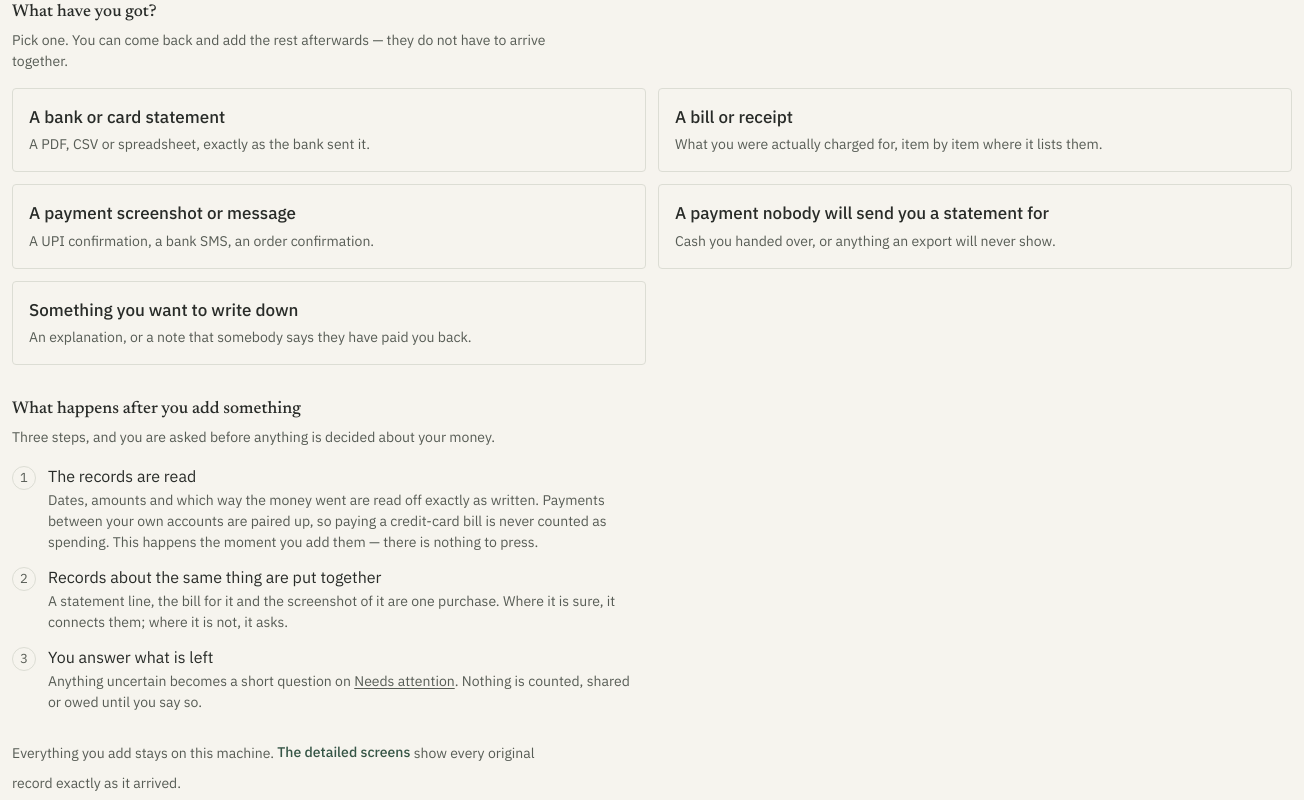
Scenario: Add records › explains what a statement does, and that it is not spending yet
Step 1. Click the button "A bank or card statement" → (127, 116), box [12,88,646,172]
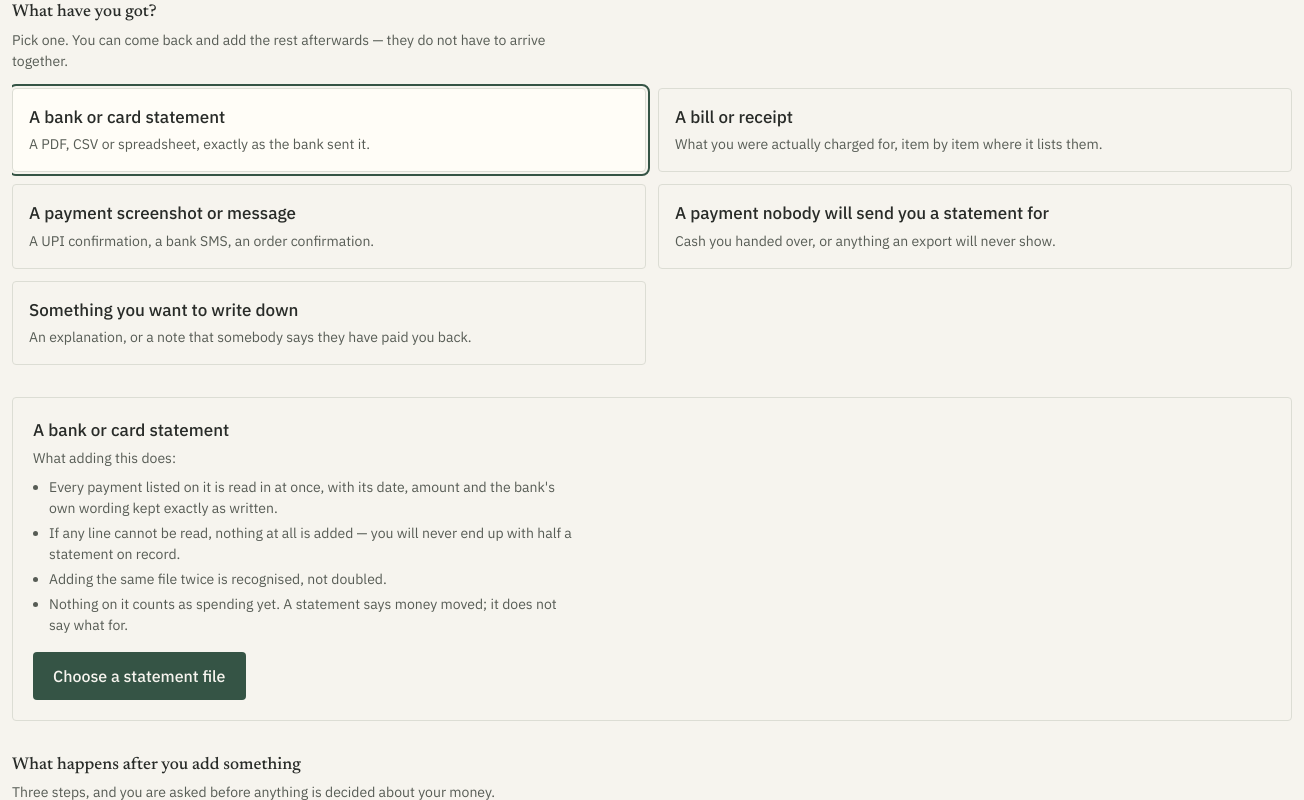
Check: the button "Choose a statement file" is shown, box [33,652,246,700]
Check: the list item "Nothing on it counts as spending yet" is shown, box [49,594,557,634]
Check: the list item "If any line cannot be read, nothing at all is added" is shown, box [49,524,572,562]
